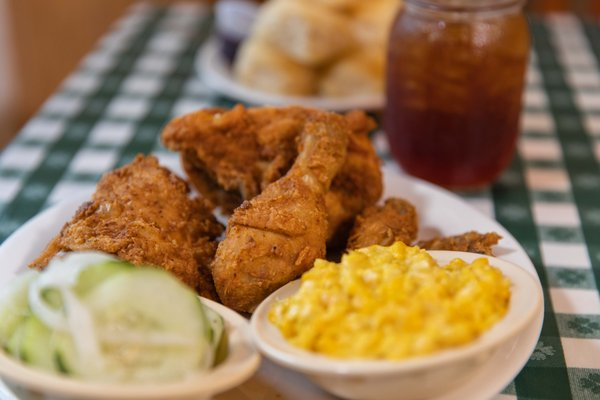sushi: (249, 237, 544, 395)
